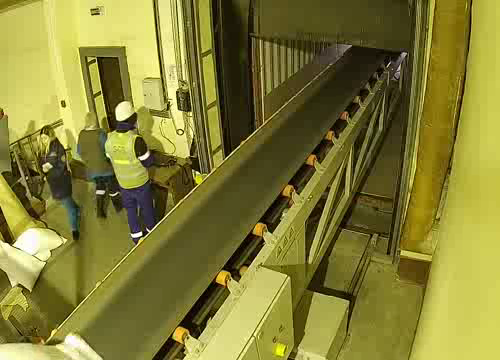bag: (1, 332, 103, 360)
